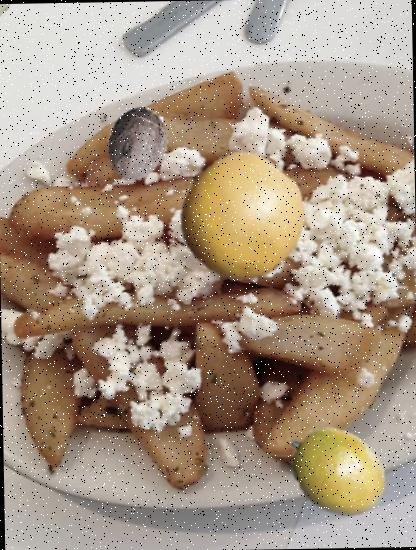Cocos: (99, 106, 176, 183)
Grapefruit: (178, 152, 307, 282)
Maracuja: (282, 418, 390, 526)
